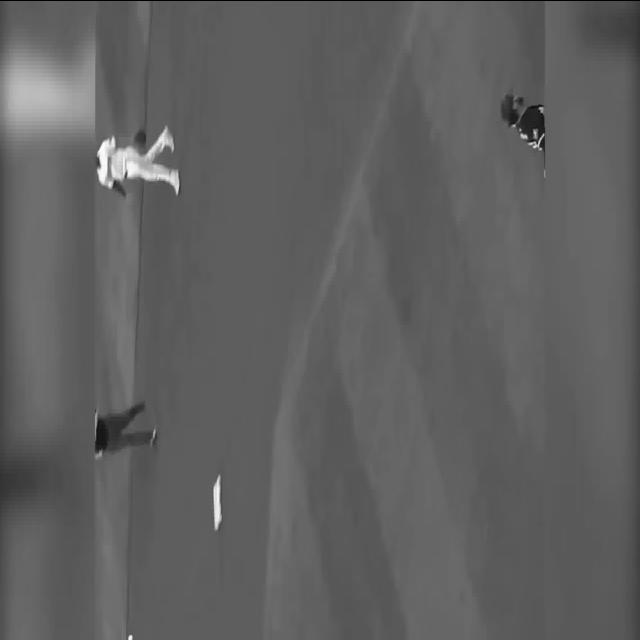base: (212, 473, 222, 529)
baseball: (128, 633, 134, 640)
shoe: (164, 124, 175, 151), (171, 169, 181, 195)
